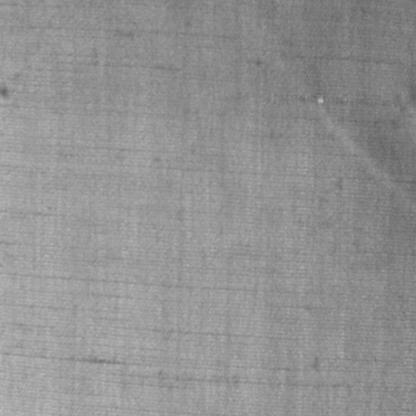hole: (316, 94, 324, 107)
